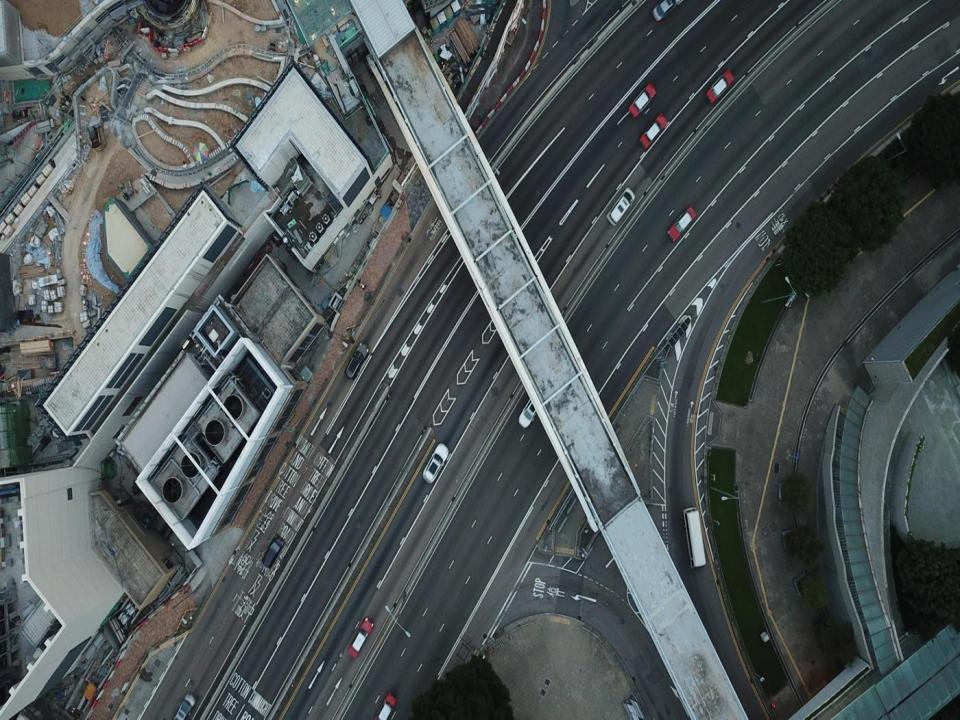bus: (682, 505, 710, 566)
car: (345, 618, 374, 658), (422, 442, 450, 483), (667, 204, 696, 239), (636, 114, 666, 144), (706, 71, 734, 102), (516, 392, 544, 423), (629, 82, 655, 115), (260, 535, 286, 566), (653, 0, 682, 26), (168, 695, 197, 719), (372, 694, 398, 719)
van: (605, 185, 634, 226), (347, 341, 368, 379)
